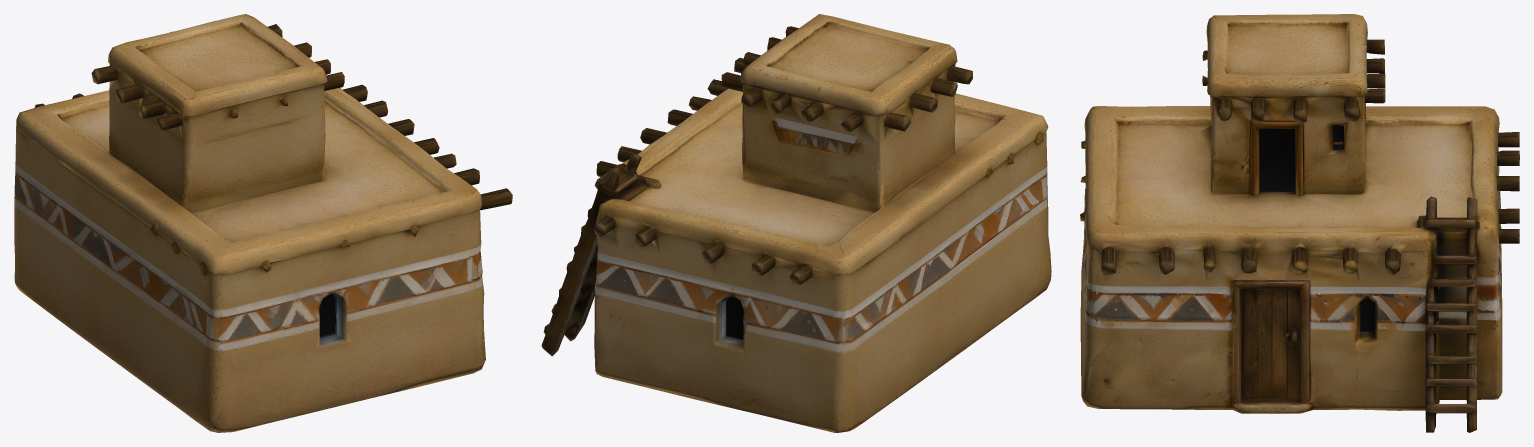
Rendered from house.glb.
The picture shows the model from 3 angles, left to right: view 1: azimuth 30°, elevation 25°; view 2: azimuth 150°, elevation 25°; view 3: azimuth 270°, elevation 25°; orthographic projection.
Visible parts, largest first — view 1: tripo_node_9cdefe33-9f77-4d59-9046-4d17210a46a0; view 2: tripo_node_9cdefe33-9f77-4d59-9046-4d17210a46a0; view 3: tripo_node_9cdefe33-9f77-4d59-9046-4d17210a46a0.
Boxes of the visible parts, x1=… form: tripo_node_9cdefe33-9f77-4d59-9046-4d17210a46a0: x1=14, y1=14, x2=512, y2=432; tripo_node_9cdefe33-9f77-4d59-9046-4d17210a46a0: x1=541, y1=14, x2=1051, y2=432; tripo_node_9cdefe33-9f77-4d59-9046-4d17210a46a0: x1=1080, y1=14, x2=1519, y2=432.
Bounding box in the file's own units: 0.8479 × 0.7151 × 0.9999.
1 material, 1 textured.
